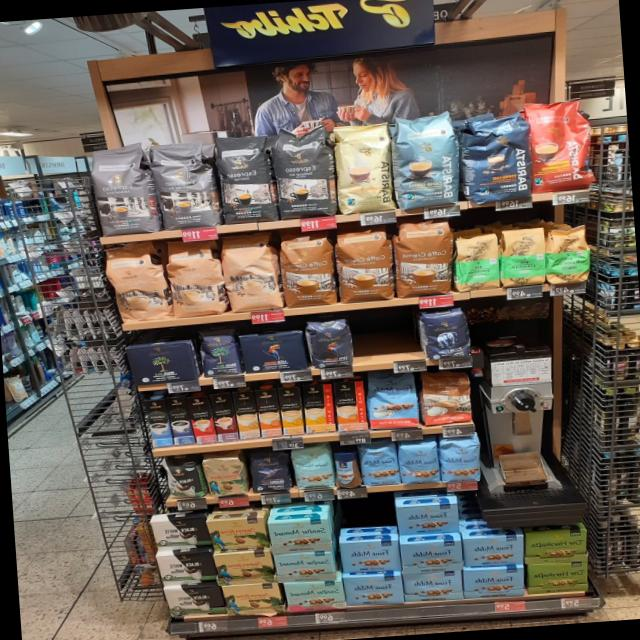AB Bohne: (418, 306, 472, 362)
Athiopien Bohne: (540, 222, 594, 284)
Athiopien Gemahlen: (496, 225, 549, 288), (450, 231, 502, 294)
BM Bohne: (195, 325, 245, 378)
BM Gemahlen: (123, 340, 200, 385)
BW Bohne: (164, 453, 209, 499)
BW Gemahlen: (148, 514, 213, 552), (154, 551, 218, 586), (162, 584, 227, 618)
Barista CB: (329, 122, 399, 216)
Barista CC: (387, 111, 462, 212)
Barista Espresso: (454, 112, 534, 206)
Barista Kolumbien: (523, 96, 600, 196)
C Fino Bohne: (245, 448, 294, 494)
CC Mild: (99, 239, 177, 324), (161, 237, 232, 319), (217, 230, 286, 314)
CC Vollmundig: (416, 368, 474, 427)
CC Vollmundig 36 Pads: (389, 216, 458, 299), (332, 220, 398, 304), (278, 224, 339, 308)
Colombia BB Bohne: (198, 449, 252, 498)
Colombia BB Gemahlen: (212, 549, 276, 586), (205, 515, 270, 551), (220, 581, 285, 616)
Empty Shelf: (370, 310, 418, 362), (337, 502, 398, 540)
Espresso Aromatisch: (83, 139, 165, 238)
Espresso Kraftig: (212, 132, 280, 227)
Espresso M Art: (155, 138, 220, 233)
FM 36 Pads: (364, 370, 421, 431)
FM Bohne: (437, 433, 482, 483), (396, 436, 440, 486), (358, 438, 399, 488)
FM Gemahlen: (338, 538, 401, 574), (396, 501, 460, 536), (461, 533, 525, 568), (399, 538, 464, 572), (462, 565, 525, 599), (402, 568, 462, 602)
FM Instant: (332, 446, 362, 490)
Herzhatfe Mundig: (522, 528, 587, 564), (526, 559, 588, 594)
LG Bohne: (303, 316, 355, 370)
LG Gemahlen: (237, 329, 309, 374)
SM Bohne: (288, 442, 336, 490)
SM Gemahlen: (266, 517, 333, 554), (282, 579, 347, 613), (272, 550, 336, 583)
Simo CCMild: (302, 382, 334, 433)
Simo CCMild bigpack: (277, 385, 304, 436)
Simo CCVollmundig: (333, 379, 368, 432)
Simo CCVollmundig bigpack: (254, 387, 282, 438)
Simo Decaff: (232, 389, 260, 439)
Simo Es Elegant: (185, 394, 218, 445)
Simo Es Kraft: (208, 391, 239, 443)
Simo Kaffee Kraft: (165, 395, 195, 446)
Simo Kaffee Mild: (144, 398, 173, 447)
